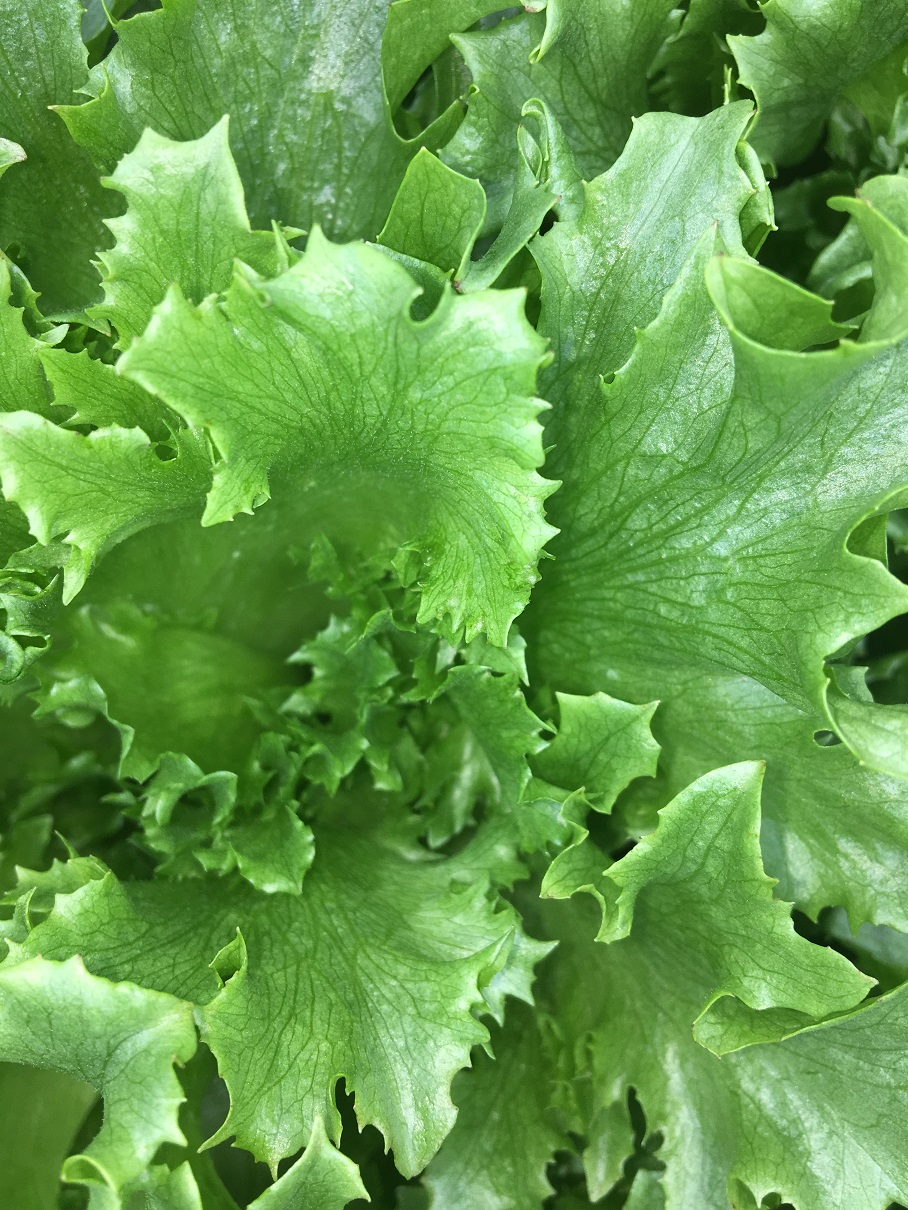tipburn: (679, 1008, 734, 1054), (534, 181, 579, 223), (34, 80, 77, 121), (697, 201, 733, 241), (848, 178, 881, 220), (436, 267, 472, 305), (504, 1, 549, 31), (703, 243, 739, 280)
